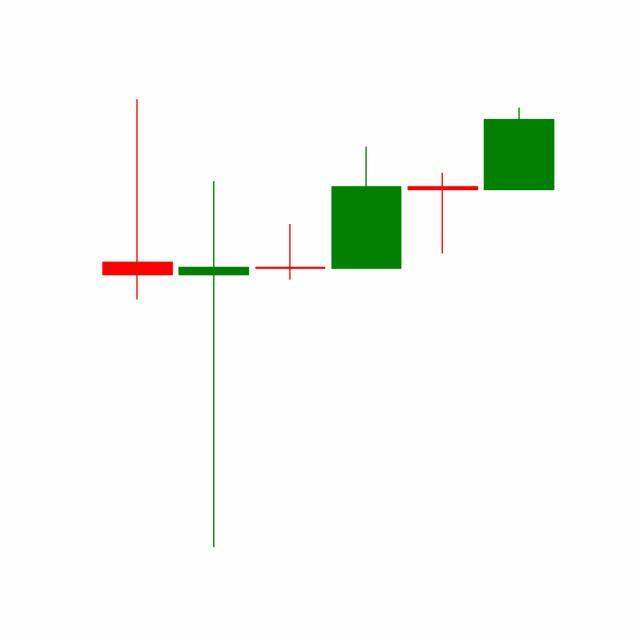Dragonfly Doji: (404, 173, 482, 256)
